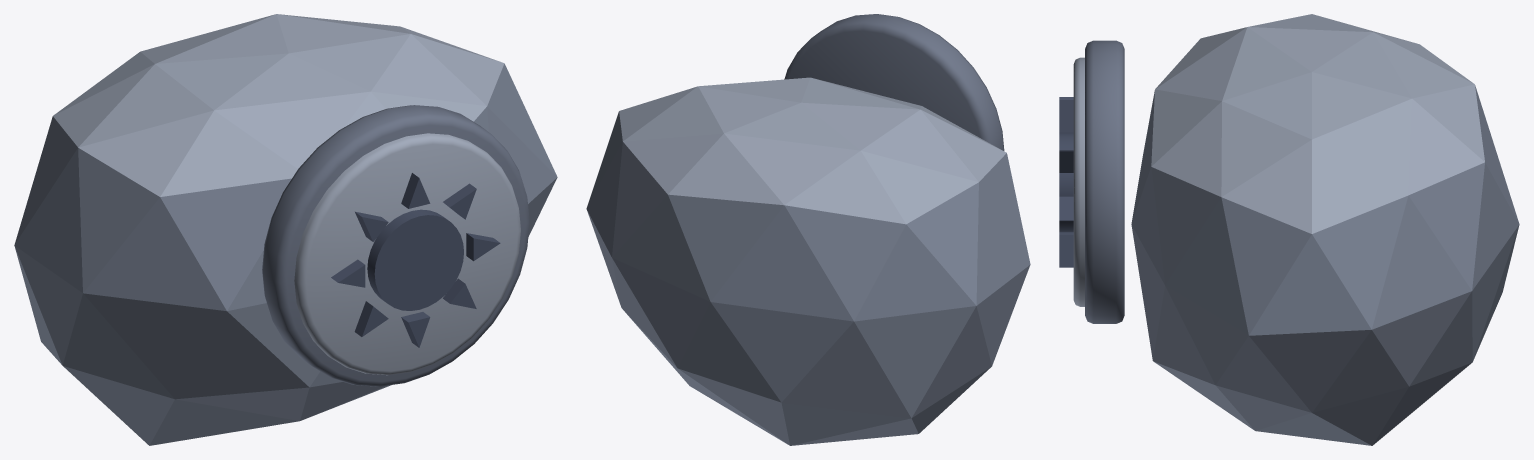
Rendered from pedra-sol.glb.
3 renders of one model, left to right at view 1: azimuth 30°, elevation 25°; view 2: azimuth 150°, elevation 25°; view 3: azimuth 270°, elevation 25°, orthographic. The views are drawn at different scales.
Visible parts, largest first — view 1: pedra; view 2: pedra; view 3: pedra.
Part boxes in pixels (left/top/right/bottom): pedra: left=14, top=14, right=557, bottom=445; pedra: left=586, top=14, right=1030, bottom=445; pedra: left=1059, top=14, right=1519, bottom=445.
Size of what is drawn, in the model's own units: 0.939 by 0.71 by 0.8107.
